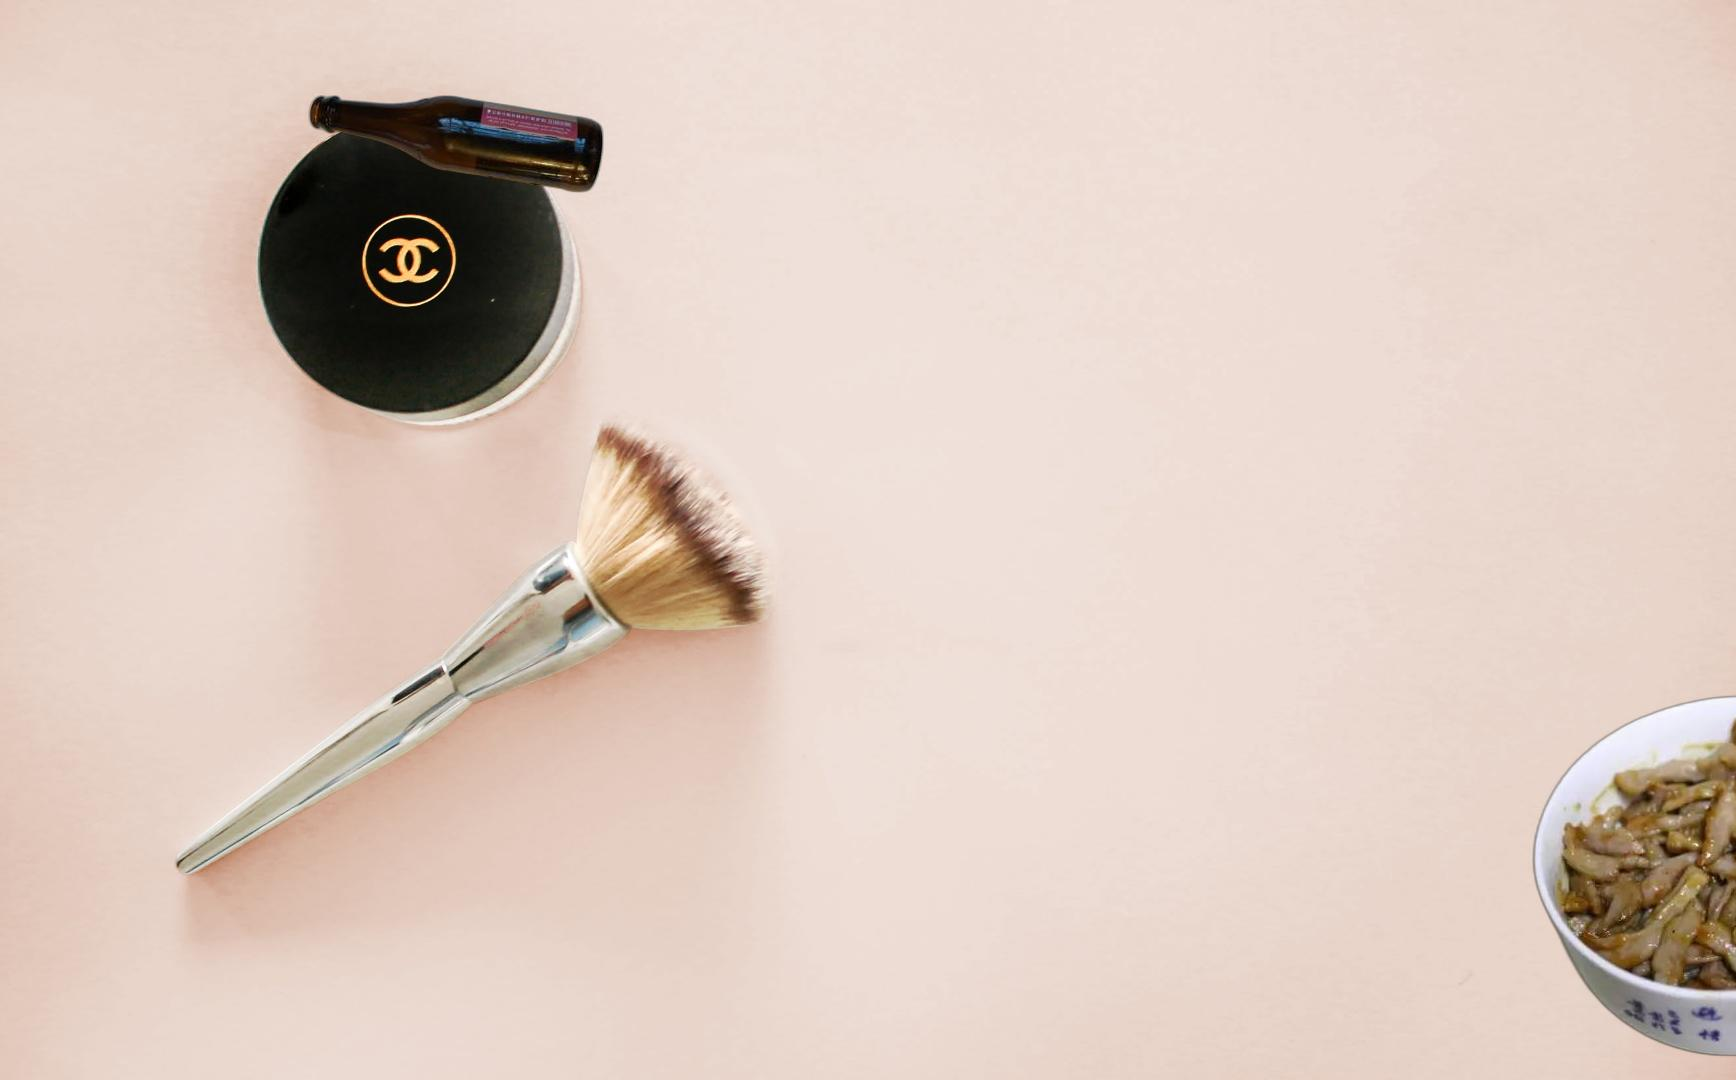biological: (1530, 692, 1736, 1063)
glass: (305, 92, 608, 197)
